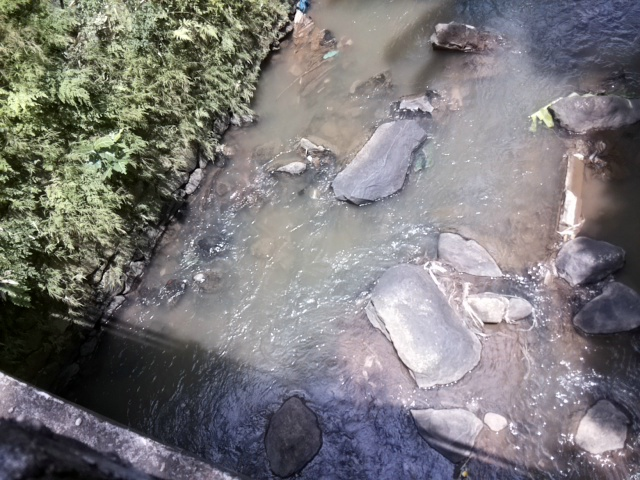Sampah_Plastik: (295, 1, 312, 11)
